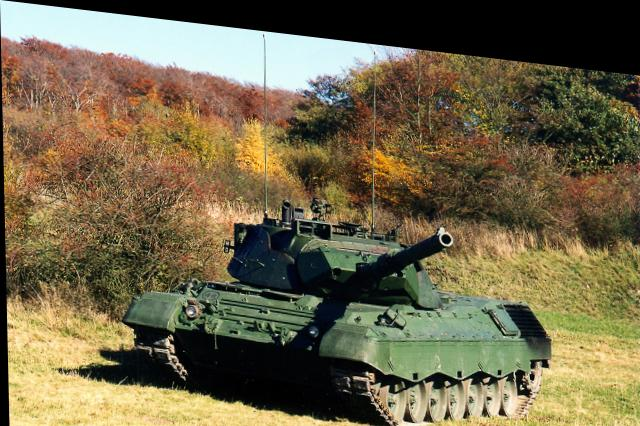tank: (130, 208, 529, 414)
